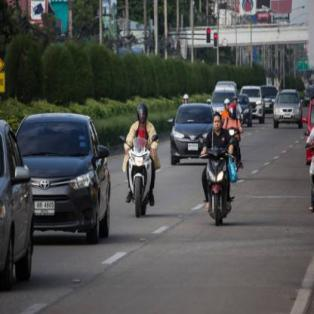Motocicleta: (126, 133, 168, 225), (201, 149, 232, 225)
